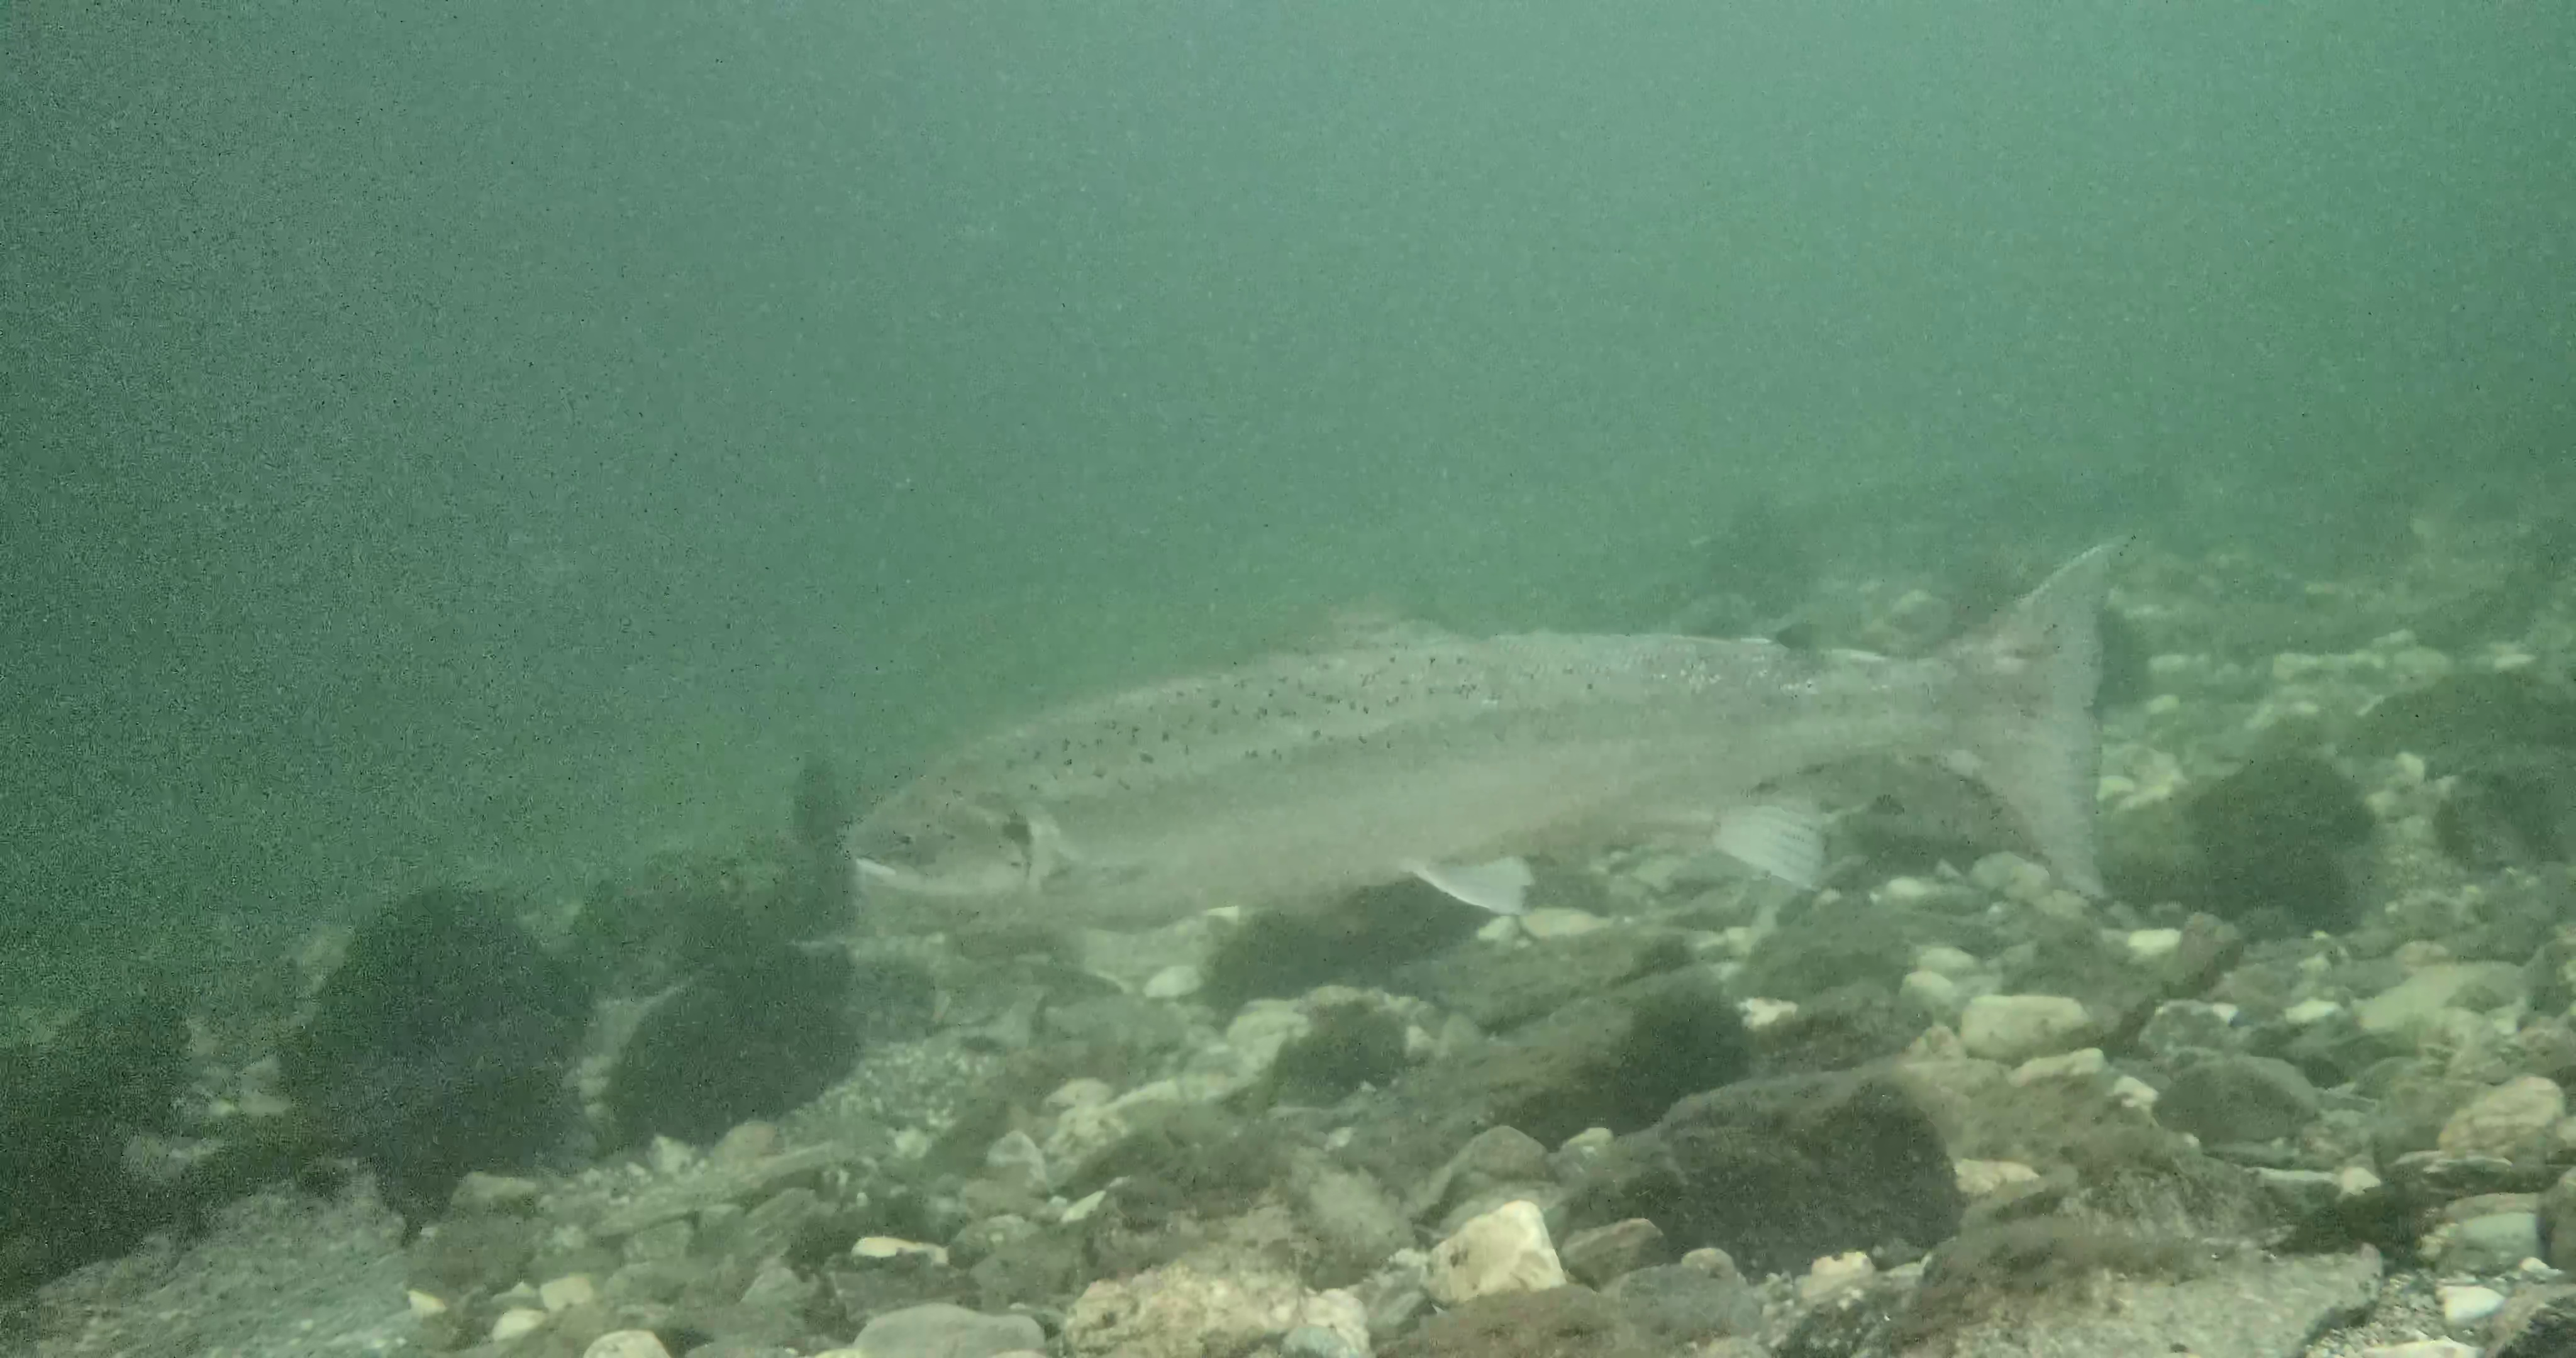salmon: (840, 530, 2138, 922)
